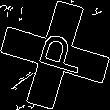P_W: (25, 30, 85, 80)
